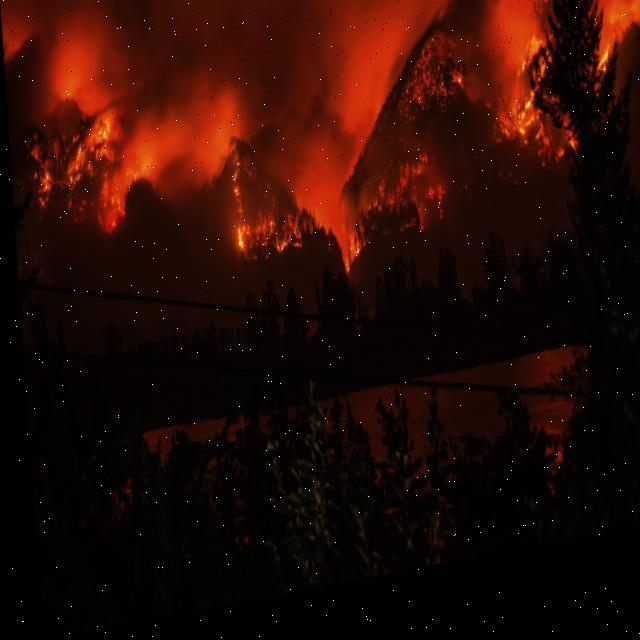Fire: (472, 0, 639, 191), (219, 105, 373, 298), (26, 80, 149, 262)
